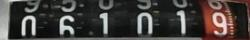digits: (16, 13, 40, 38), (58, 14, 76, 40), (135, 12, 153, 35), (211, 11, 226, 36), (176, 10, 186, 34), (98, 12, 108, 34)
